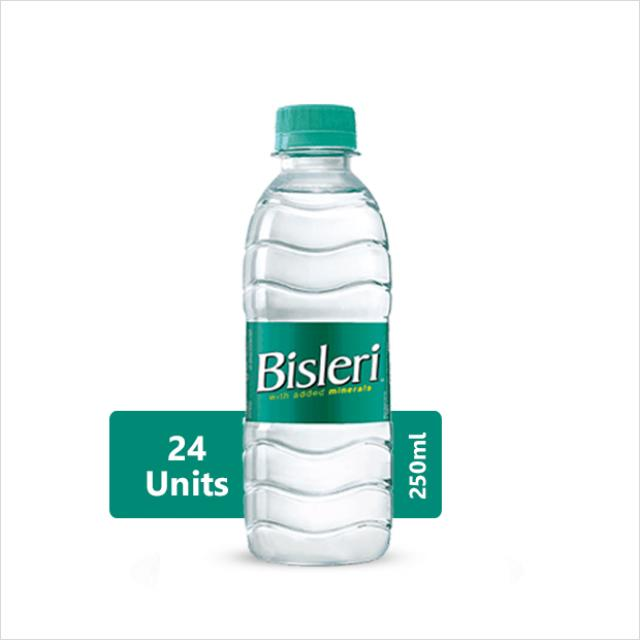full-bottle: (235, 100, 399, 575)
